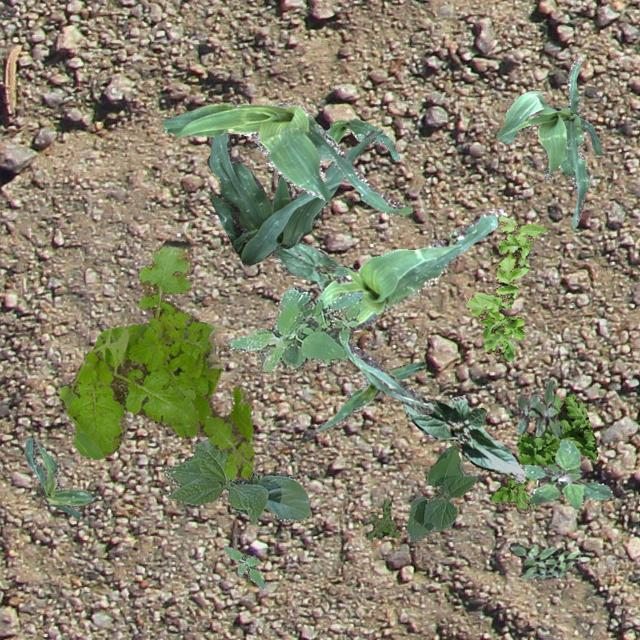crop: (312, 208, 506, 414), (162, 100, 414, 214), (206, 128, 382, 264), (494, 58, 600, 228), (162, 438, 310, 524), (402, 394, 526, 482), (314, 361, 426, 432), (406, 444, 476, 542), (24, 436, 94, 518), (270, 242, 354, 292), (324, 118, 398, 160)
weed: (58, 240, 254, 480), (488, 394, 596, 514), (466, 216, 546, 360), (228, 286, 362, 370), (520, 438, 610, 508), (516, 378, 562, 436), (508, 542, 578, 580), (222, 544, 264, 588), (364, 498, 400, 538)
